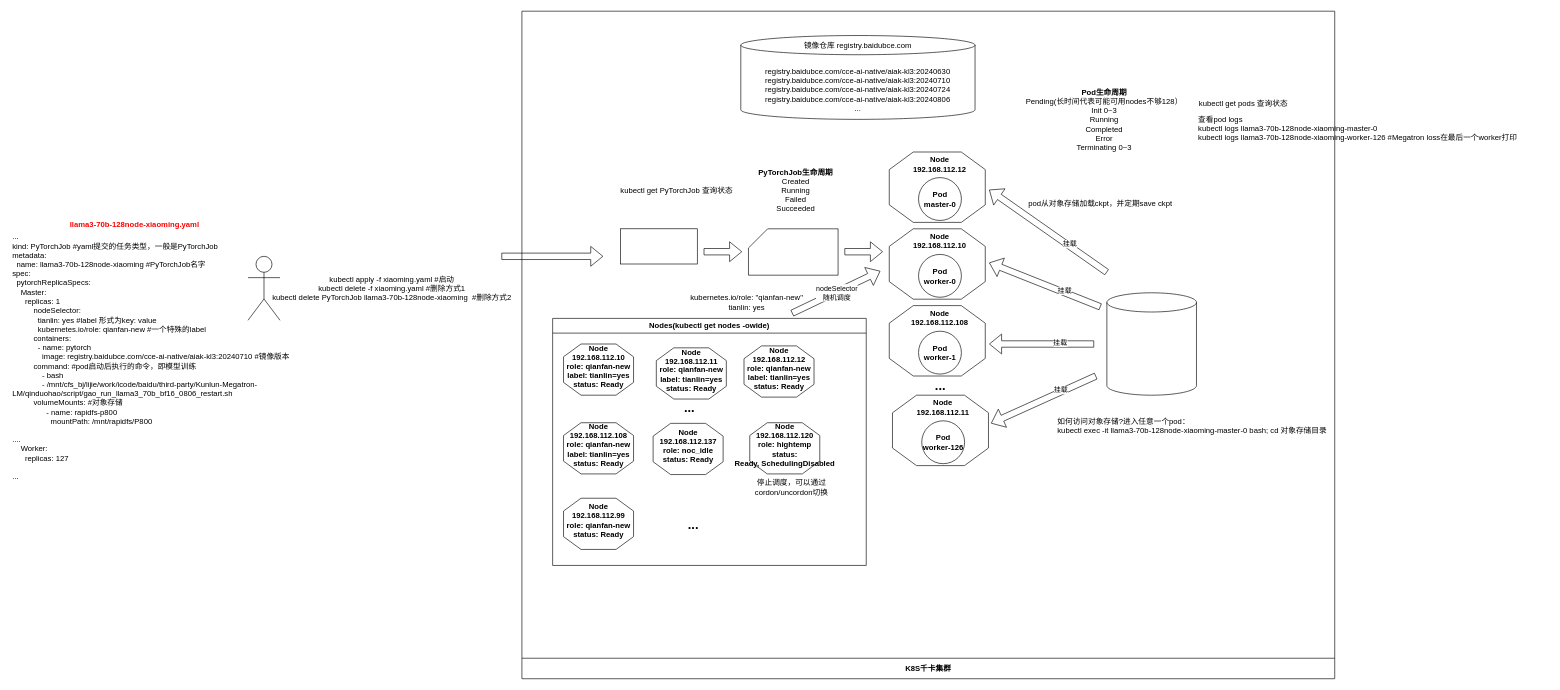
The diagram is 1560 pixels wide and 690 high, and some of its shapes have lost their labels. Each missing label, with the centre of its shape:
"API服务器" belongs at [658,246].
"PyTorchJob llama3-70b-128node-xiaoming" belongs at [793,251].
"对象存储 数据集 ckpt 日志 ...." belongs at [1151,343].
"小明" belongs at [263,288].
